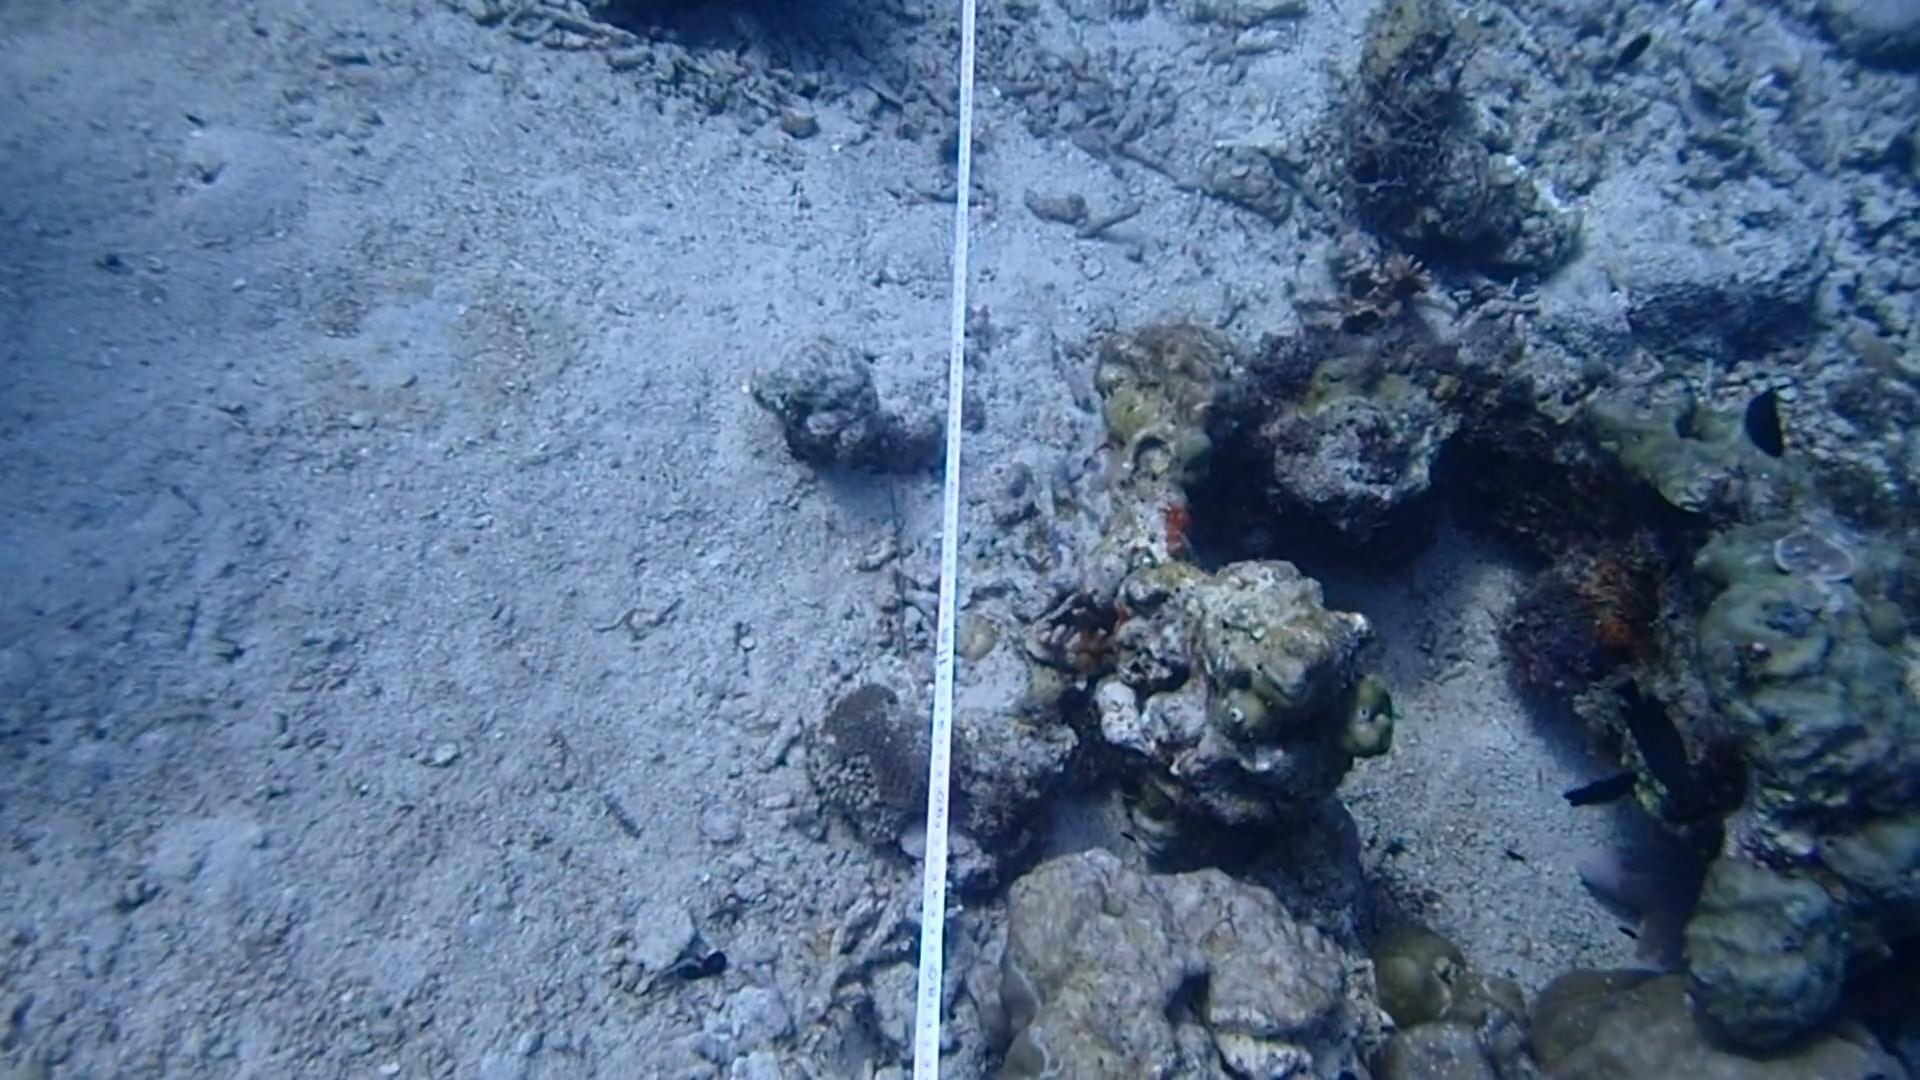Dark Fish: (1593, 657, 1702, 794), (1543, 758, 1648, 822), (1741, 376, 1793, 454), (1614, 24, 1654, 82)
